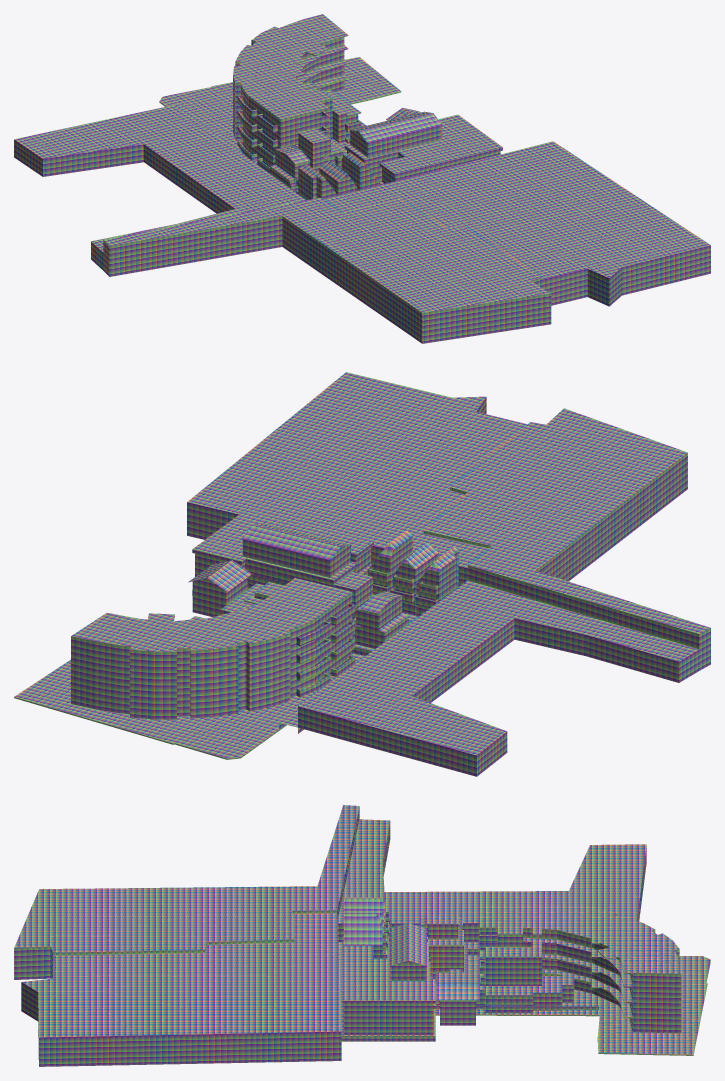
File: class9.fbx
3 views of the same model, one above another, from view 1: azimuth 30°, elevation 25°; view 2: azimuth 150°, elevation 25°; view 3: azimuth 270°, elevation 25° (orthographic). The views are drawn at different scales.
Parts seen in each view (by area): view 1: Land_2, Building_2, Grass_2, Concrete_2; view 2: Land_2, Building_2, Grass_2, Concrete_2; view 3: Land_2, Building_2, Grass_2, Concrete_2, Road_2, Glass_2.
Part boxes in pixels (x1,y1,x2,y2): Land_2: [14, 105, 710, 343]; Building_2: [233, 14, 502, 199]; Grass_2: [159, 57, 401, 163]; Concrete_2: [295, 128, 344, 172]; Land_2: [187, 372, 710, 776]; Building_2: [71, 510, 458, 719]; Grass_2: [14, 653, 364, 759]; Concrete_2: [334, 572, 372, 639]; Land_2: [14, 805, 646, 1066]; Building_2: [342, 897, 681, 1034]; Grass_2: [433, 955, 710, 1055]; Concrete_2: [427, 915, 463, 975]; Road_2: [338, 942, 478, 1035]; Glass_2: [431, 928, 460, 969].
Size of the model in its own units: 92287 by 11820 by 118272.
Materials: 8 (8 with a texture image).
